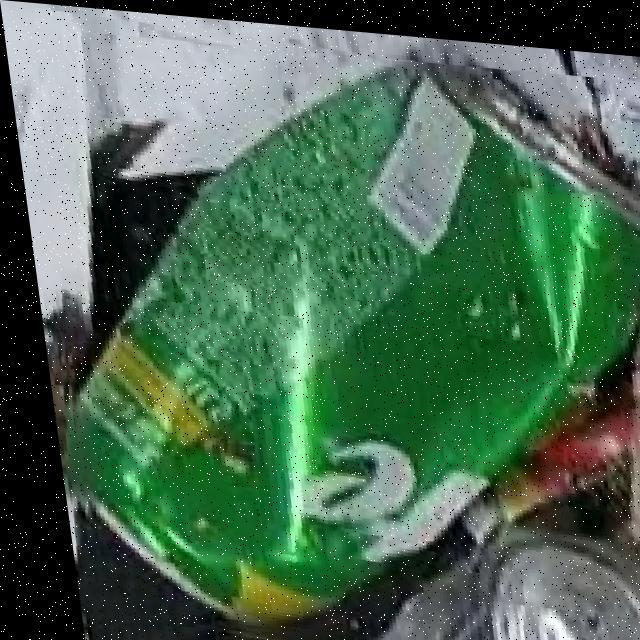litter: (62, 54, 640, 630)
